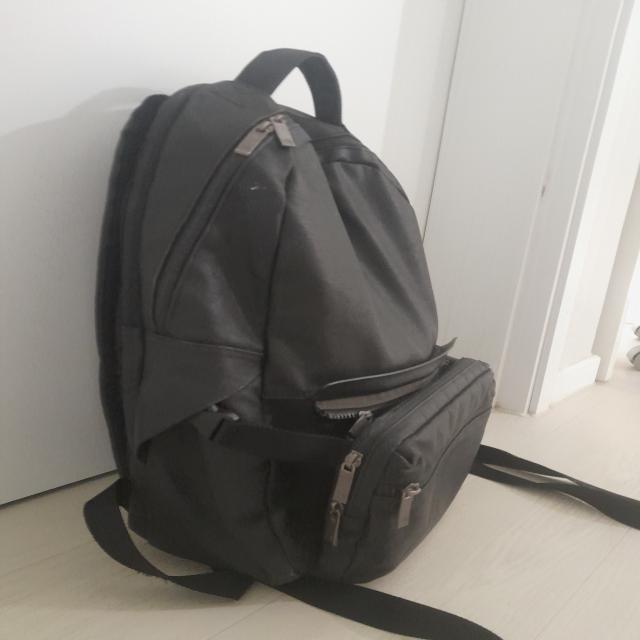backpack: (81, 47, 640, 640)
